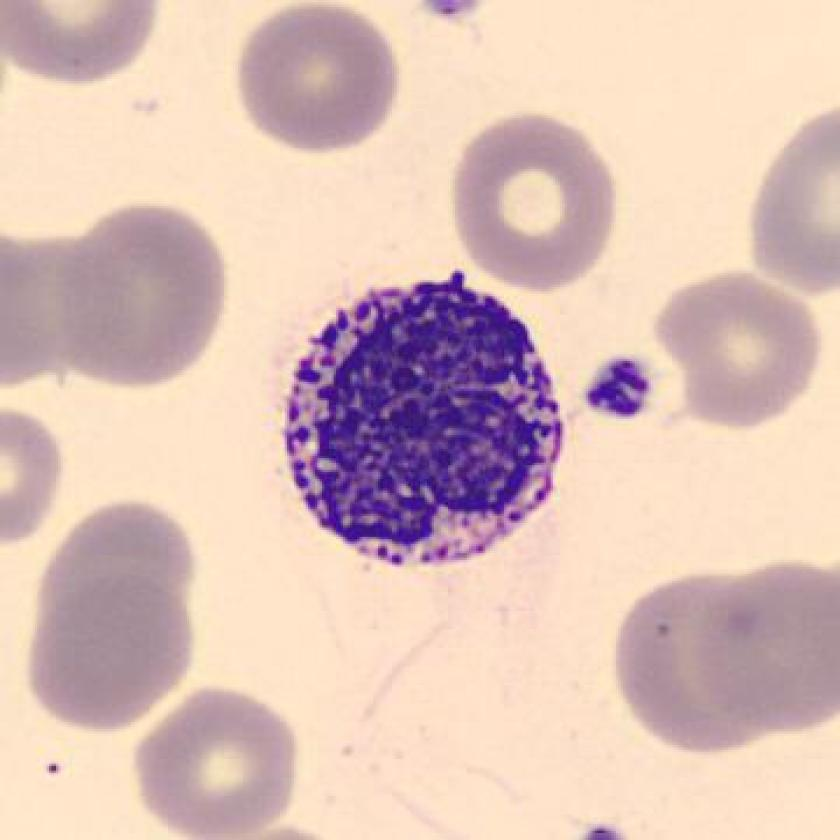basophil: (272, 258, 589, 575)
